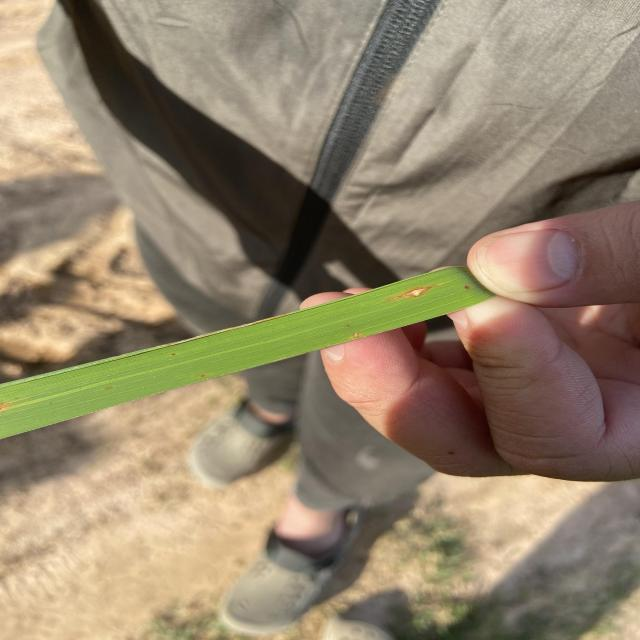Dao on: (393, 287, 434, 299), (354, 333, 359, 337), (465, 286, 470, 289)
